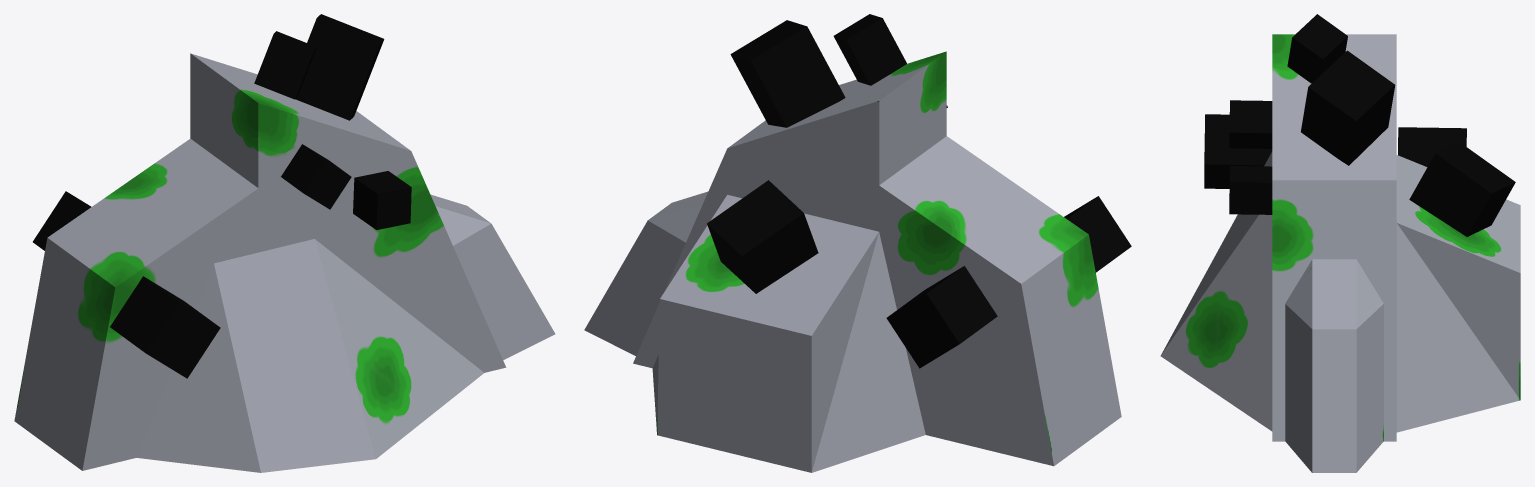
Rendered from CarbonMusgoTipo2.fbx.
The picture shows the model from 3 angles, left to right: view 1: azimuth 30°, elevation 25°; view 2: azimuth 150°, elevation 25°; view 3: azimuth 270°, elevation 25°; orthographic projection. The views are drawn at different scales.
Visible parts, largest first — view 1: base.045, carbon.022, carbon.019, carbon.024, carbon.020, carbon.023, carbon.021; view 2: base.045, carbon.025, carbon.019, carbon.021, carbon.020, carbon.022; view 3: base.045, carbon.019, carbon.025, carbon.022, carbon.020, carbon.024, carbon.023, carbon.021.
Boxes of the visible parts, x1,y1,x2,y2 form: base.045: (14,53,555,472); carbon.022: (110,276,220,378); carbon.019: (295,14,384,120); carbon.024: (353,171,411,229); carbon.020: (254,31,316,99); carbon.023: (281,144,351,209); carbon.021: (33,191,91,250); base.045: (584,51,1121,472); carbon.025: (707,180,818,293); carbon.019: (730,20,845,127); carbon.021: (886,266,997,368); carbon.020: (833,14,906,85); carbon.022: (1064,196,1131,272); base.045: (1160,34,1520,472); carbon.019: (1301,50,1395,165); carbon.025: (1409,142,1515,236); carbon.022: (1204,114,1272,188); carbon.020: (1287,14,1347,83); carbon.024: (1229,166,1272,214); carbon.023: (1229,100,1272,148); carbon.021: (1398,127,1466,167).
Bounding box in the file's own units: 140 × 99.18 × 96.69.
